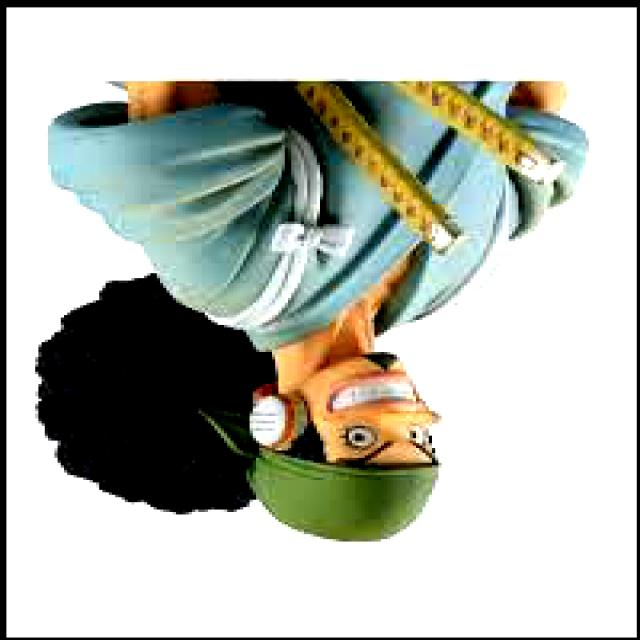Usopp: (38, 81, 589, 544)
